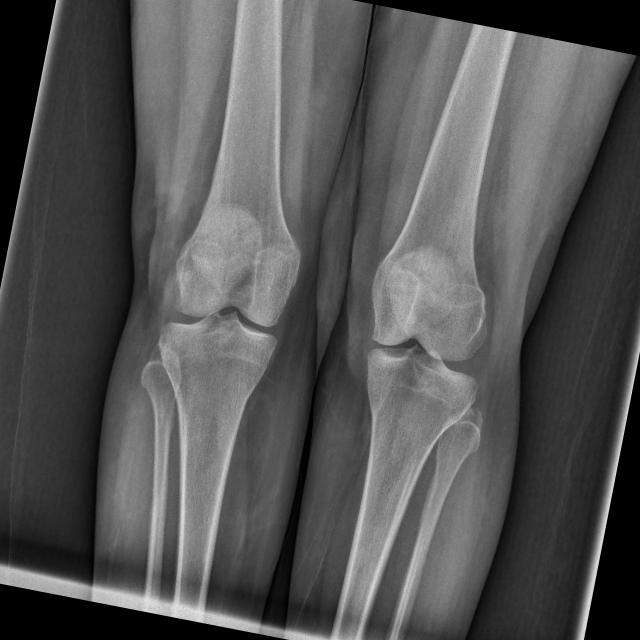Knee: (148, 244, 304, 403), (349, 270, 498, 428)
